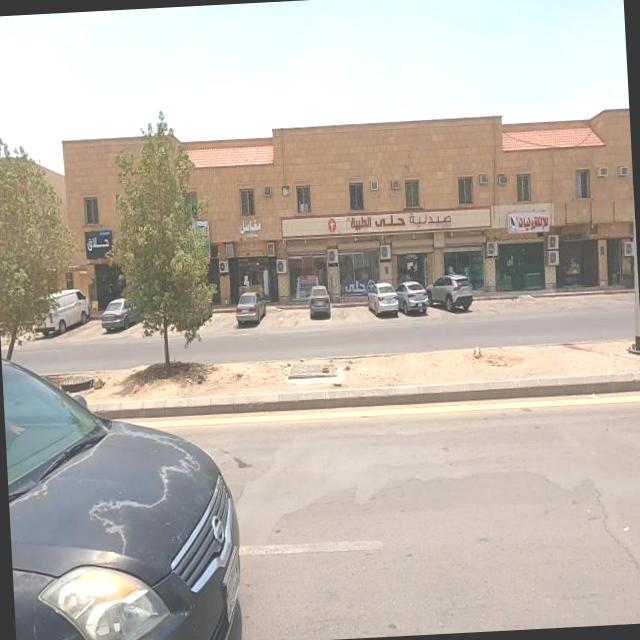debris: (368, 301, 584, 418)
